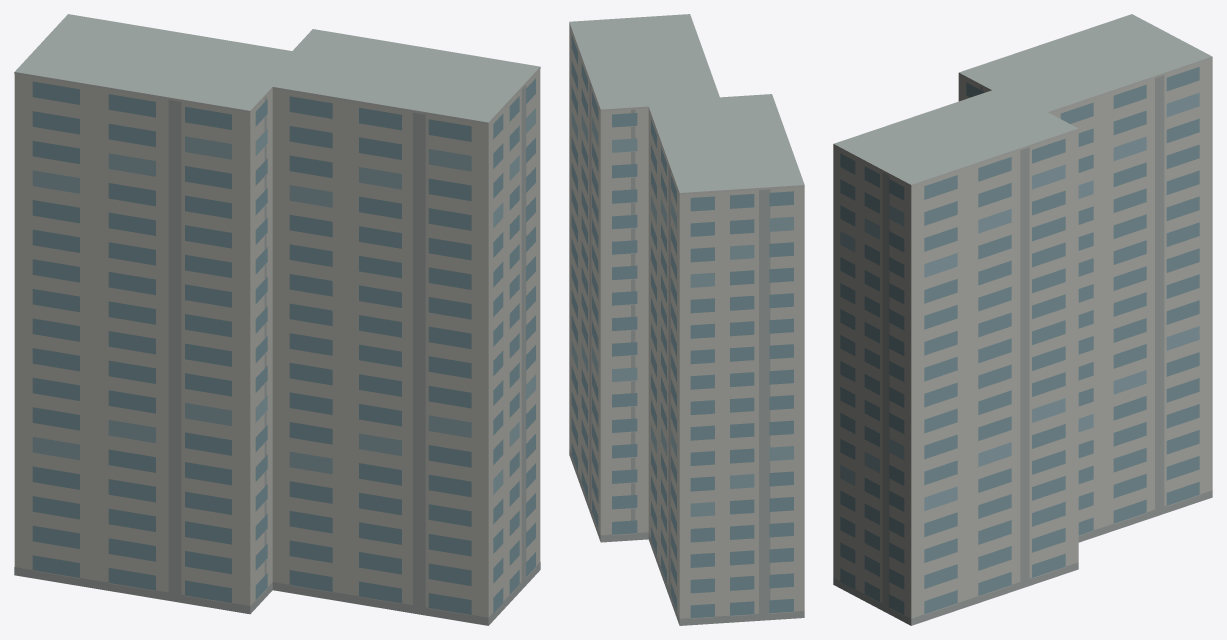
The model's file is residential-07398b6a-150d-4df0-99fa-b577076deb23.glb.
3 renders of one model, left to right at view 1: azimuth 30°, elevation 25°; view 2: azimuth 150°, elevation 25°; view 3: azimuth 270°, elevation 25°, orthographic. The views are drawn at different scales.
Visible parts, largest first — view 1: residential-07398b6a-150d-4df0-99fa-b577076deb23.tmp; view 2: residential-07398b6a-150d-4df0-99fa-b577076deb23.tmp; view 3: residential-07398b6a-150d-4df0-99fa-b577076deb23.tmp.
Boxes of the visible parts, bbox=[...] form: residential-07398b6a-150d-4df0-99fa-b577076deb23.tmp: bbox=[14, 14, 540, 625]; residential-07398b6a-150d-4df0-99fa-b577076deb23.tmp: bbox=[569, 14, 804, 625]; residential-07398b6a-150d-4df0-99fa-b577076deb23.tmp: bbox=[833, 14, 1212, 625].
Size of the model in its own units: 40.75 by 49 by 38.18.
